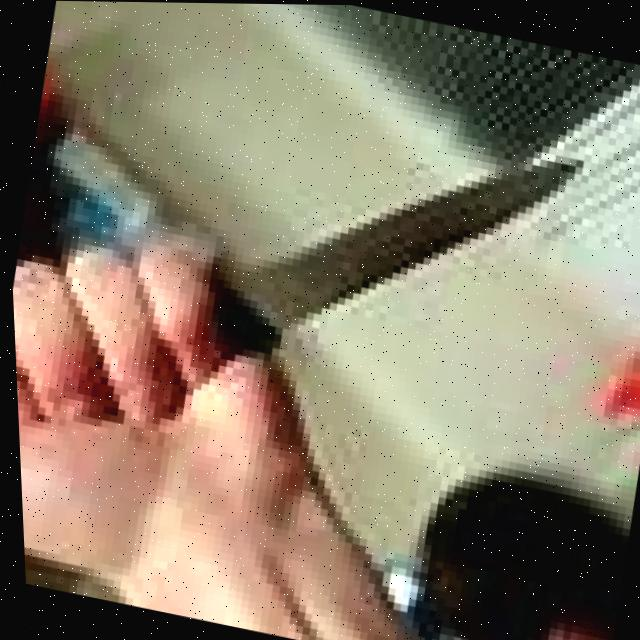knife: (182, 85, 593, 420)
